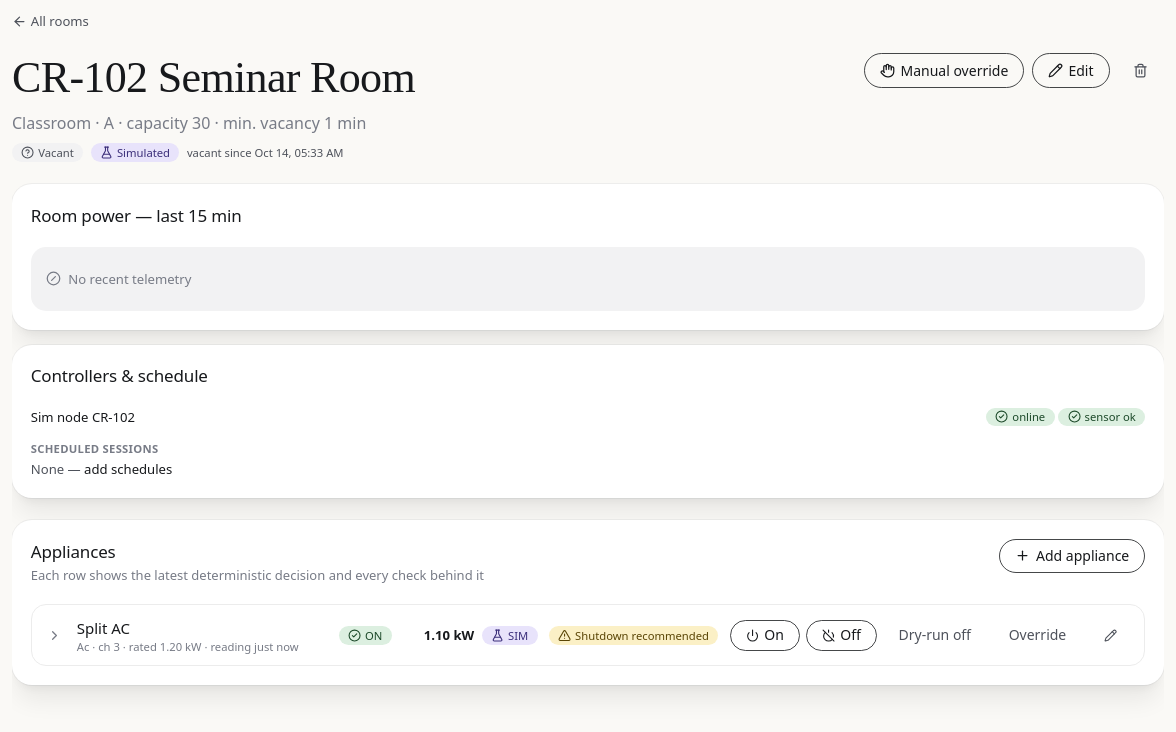
Test: room detail › sends a manual OFF command and reports a blocked result
expect the text "Split AC" is shown: met, box [77,618,130,638]
Step 1. Click the button "Off" → click(841, 635), box [806,620,877,651]
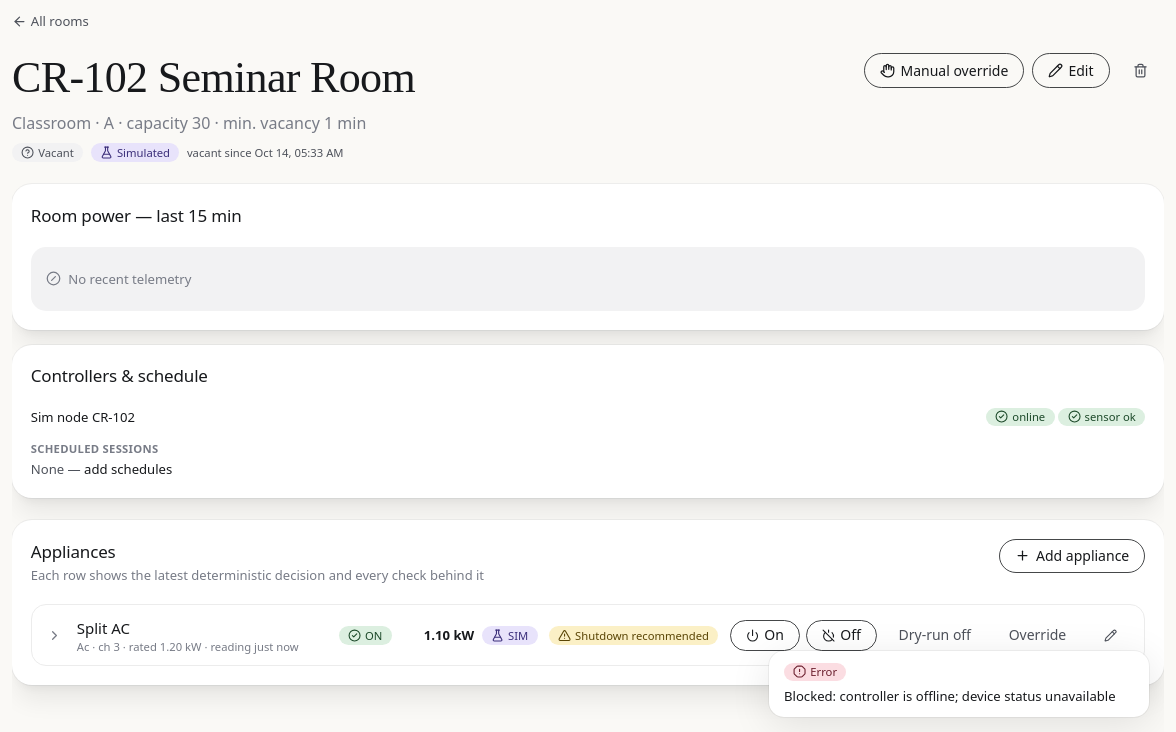
expect the text "Blocked: controller is offline; device status unavailable" is shown: met, box [784,687,1134,706]
